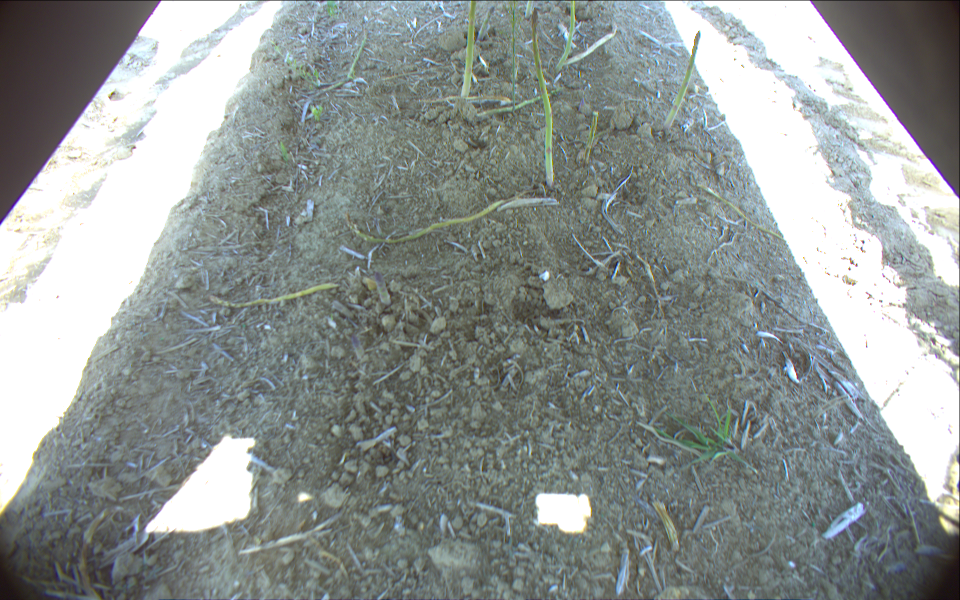aspa: (525, 6, 559, 191), (658, 29, 702, 132), (456, 1, 480, 102), (547, 1, 578, 75), (577, 109, 600, 167)
